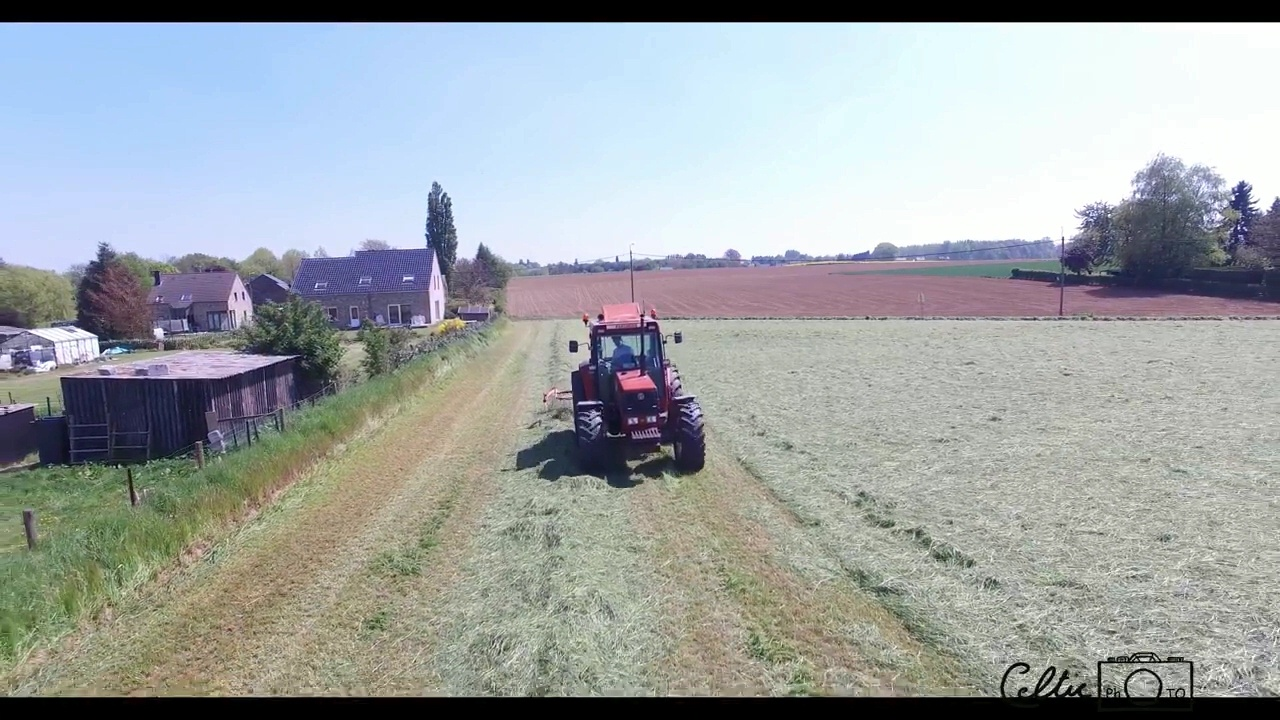traktor: (570, 301, 706, 474)
